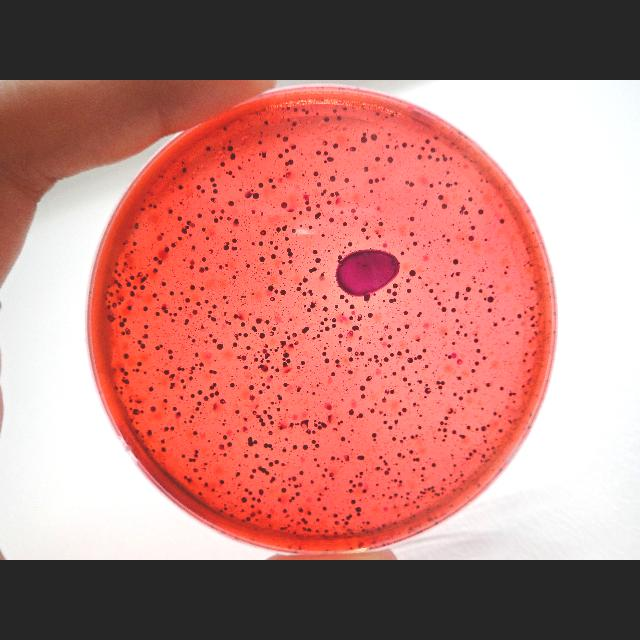colony: (300, 419, 310, 429), (363, 294, 371, 304), (106, 314, 115, 322), (279, 341, 287, 349), (408, 269, 416, 277), (370, 133, 378, 141), (469, 224, 477, 232), (248, 437, 254, 447), (382, 324, 390, 331), (466, 235, 474, 242), (181, 227, 188, 234), (140, 276, 147, 283), (261, 365, 268, 372), (315, 212, 322, 219), (134, 222, 140, 230), (252, 193, 260, 199), (244, 192, 252, 198), (132, 409, 140, 415), (332, 143, 340, 149), (326, 156, 334, 162), (424, 388, 432, 394), (169, 374, 175, 382), (310, 301, 316, 309), (338, 294, 346, 300), (406, 356, 412, 364), (486, 296, 494, 302), (314, 257, 322, 263), (367, 178, 373, 186), (386, 157, 394, 163), (478, 208, 484, 216), (359, 138, 367, 144), (400, 142, 408, 148), (251, 326, 258, 332), (288, 422, 294, 429), (302, 444, 308, 451), (374, 178, 381, 184), (441, 203, 447, 210), (498, 218, 504, 225), (349, 146, 356, 152), (429, 147, 436, 153), (282, 136, 288, 142), (230, 153, 236, 159), (228, 146, 234, 152), (212, 188, 218, 194), (178, 184, 184, 190), (112, 302, 118, 308), (125, 328, 131, 334), (258, 182, 264, 188), (228, 201, 234, 207), (186, 220, 192, 226), (170, 242, 176, 248), (190, 284, 196, 290), (292, 332, 298, 338), (283, 352, 289, 358), (328, 414, 332, 423), (321, 422, 327, 428), (305, 429, 311, 435), (355, 506, 361, 512), (258, 489, 264, 495), (150, 406, 156, 412), (118, 296, 124, 302), (330, 176, 336, 182), (306, 206, 312, 212), (281, 202, 287, 208), (190, 260, 196, 266), (270, 254, 276, 260), (260, 230, 266, 236), (453, 259, 459, 265), (348, 409, 354, 415), (280, 289, 286, 295), (217, 344, 223, 350), (256, 318, 262, 324), (324, 326, 330, 332), (308, 290, 314, 296), (214, 390, 220, 396), (264, 353, 270, 359), (218, 444, 224, 450), (222, 434, 228, 440), (324, 358, 330, 364), (404, 324, 410, 330), (396, 350, 402, 356), (359, 385, 365, 391), (365, 376, 371, 382), (384, 389, 390, 395), (416, 354, 422, 360), (486, 307, 492, 313), (454, 290, 460, 296), (465, 286, 471, 292), (502, 270, 508, 276), (499, 386, 505, 392), (480, 426, 486, 432), (497, 428, 503, 434), (292, 444, 298, 450), (358, 413, 364, 419), (392, 283, 398, 289), (406, 288, 412, 294), (386, 288, 392, 294), (308, 268, 314, 274), (312, 266, 318, 272), (319, 272, 325, 278), (312, 249, 318, 255), (326, 200, 332, 206), (374, 156, 380, 162), (408, 182, 414, 188), (453, 180, 459, 186), (458, 210, 464, 216), (393, 144, 399, 150), (416, 154, 422, 160), (442, 156, 448, 162), (324, 117, 330, 123), (262, 150, 266, 158), (122, 380, 130, 384), (358, 314, 362, 322), (352, 326, 360, 330), (314, 204, 322, 208), (156, 236, 164, 240), (137, 272, 143, 277), (184, 319, 189, 325), (211, 317, 217, 322), (288, 343, 294, 348), (297, 386, 302, 392), (258, 418, 264, 423), (261, 468, 267, 473), (269, 331, 274, 336), (259, 364, 264, 369), (317, 425, 322, 430), (261, 422, 266, 427), (252, 410, 257, 415), (271, 476, 276, 481), (363, 221, 368, 226), (264, 120, 268, 126), (292, 122, 298, 126), (206, 146, 210, 152), (220, 162, 226, 166), (228, 170, 232, 176), (196, 186, 202, 190), (182, 167, 186, 173), (124, 261, 128, 267), (126, 282, 132, 286), (118, 283, 122, 289), (107, 304, 111, 310), (120, 321, 124, 327), (131, 291, 135, 297), (140, 286, 146, 290), (152, 294, 158, 298), (144, 306, 148, 312), (140, 344, 146, 348), (292, 144, 296, 150), (285, 148, 289, 154), (278, 154, 284, 158), (288, 160, 294, 164), (269, 178, 273, 184), (210, 198, 216, 202), (178, 216, 182, 222), (191, 222, 195, 228), (164, 248, 170, 252), (162, 306, 168, 310), (192, 310, 198, 314), (212, 304, 216, 310), (260, 333, 264, 339), (269, 430, 273, 436), (255, 414, 261, 418), (268, 462, 274, 466), (292, 476, 296, 482), (298, 508, 304, 512), (334, 521, 340, 525), (350, 500, 356, 504), (358, 456, 364, 460), (345, 455, 349, 461), (250, 512, 256, 516), (162, 446, 166, 452), (135, 428, 139, 434), (147, 429, 151, 435), (134, 401, 142, 404), (148, 387, 154, 391), (124, 353, 128, 359), (223, 126, 227, 132), (316, 150, 320, 156), (324, 150, 328, 156), (317, 182, 321, 188), (344, 178, 350, 182), (234, 219, 238, 225), (231, 247, 237, 251), (260, 257, 264, 263), (258, 242, 264, 246), (282, 225, 286, 231), (412, 242, 418, 246), (450, 308, 456, 312), (456, 376, 462, 380), (412, 402, 416, 408), (370, 408, 374, 414), (332, 427, 338, 431), (340, 437, 346, 441), (164, 426, 168, 432), (176, 412, 182, 416), (268, 286, 274, 290), (274, 288, 278, 294), (302, 278, 308, 282), (195, 352, 199, 358), (200, 362, 204, 368), (164, 370, 170, 374), (170, 383, 176, 387), (322, 308, 328, 312), (315, 258, 321, 262), (350, 304, 354, 310), (368, 312, 372, 318), (348, 346, 352, 352), (220, 400, 226, 404), (232, 343, 238, 347), (263, 348, 267, 354), (278, 394, 282, 400), (268, 414, 272, 420), (270, 297, 276, 301), (379, 336, 383, 342), (386, 344, 392, 348), (388, 334, 392, 340), (397, 326, 401, 332), (404, 310, 408, 316), (406, 348, 410, 354), (390, 352, 394, 358), (384, 356, 388, 362), (402, 378, 408, 382), (516, 314, 522, 318), (454, 295, 460, 299), (462, 296, 468, 300), (488, 284, 494, 288), (529, 306, 533, 312), (530, 323, 536, 327), (486, 382, 490, 388), (472, 388, 478, 392), (467, 388, 471, 394), (448, 408, 452, 414), (466, 424, 470, 430), (442, 428, 448, 432), (483, 438, 487, 444), (440, 438, 446, 442), (372, 432, 376, 438), (396, 453, 402, 457), (404, 502, 408, 508), (377, 526, 381, 532), (282, 448, 286, 454), (310, 440, 316, 444), (314, 444, 320, 448), (322, 506, 326, 512), (316, 498, 322, 502), (414, 434, 420, 438), (520, 385, 526, 389), (388, 298, 392, 304), (392, 292, 398, 296), (405, 279, 411, 283), (429, 288, 433, 294), (352, 208, 356, 214), (405, 180, 409, 186), (410, 215, 414, 221), (438, 196, 444, 200), (428, 184, 434, 188), (436, 181, 442, 185), (446, 182, 450, 188), (444, 171, 450, 175), (468, 196, 472, 202), (464, 210, 468, 216), (482, 238, 488, 242), (380, 177, 386, 181), (420, 146, 426, 150), (426, 138, 430, 144), (434, 136, 438, 142), (434, 158, 440, 162), (322, 141, 328, 145), (336, 116, 342, 120), (332, 109, 338, 113), (304, 110, 310, 114), (342, 107, 348, 111), (374, 112, 380, 116), (390, 112, 394, 118), (314, 112, 320, 116), (286, 119, 292, 123), (304, 326, 310, 330), (302, 328, 306, 334), (271, 327, 276, 331), (294, 341, 299, 345), (253, 440, 258, 444), (264, 443, 268, 448), (258, 466, 262, 471), (460, 207, 466, 210), (384, 115, 390, 118), (276, 134, 280, 138), (258, 141, 262, 145), (258, 152, 262, 156), (238, 166, 242, 170), (210, 178, 214, 182), (212, 183, 216, 187), (201, 189, 205, 193), (153, 205, 157, 209), (140, 207, 144, 211), (133, 242, 137, 246), (114, 270, 118, 274), (130, 276, 134, 280), (114, 280, 118, 284), (116, 289, 120, 293), (110, 292, 114, 296), (106, 290, 110, 294), (128, 306, 132, 310), (118, 315, 122, 319), (123, 318, 127, 322), (121, 331, 125, 335), (133, 286, 137, 290), (156, 312, 160, 316), (144, 325, 148, 329), (144, 334, 148, 338), (138, 340, 142, 344), (156, 346, 160, 350), (168, 350, 172, 354), (169, 355, 173, 359), (138, 362, 142, 366), (136, 368, 140, 372), (285, 162, 289, 166), (272, 185, 276, 189), (211, 210, 215, 214), (221, 209, 225, 213), (214, 218, 218, 222), (198, 214, 202, 218), (169, 210, 173, 214), (202, 228, 206, 232), (178, 237, 182, 241), (154, 257, 158, 261), (158, 260, 162, 264), (153, 269, 157, 273), (162, 282, 166, 286), (170, 291, 174, 295), (164, 310, 168, 314), (178, 307, 182, 311), (174, 313, 178, 317), (186, 298, 190, 302), (200, 287, 204, 291), (205, 300, 209, 304), (196, 302, 200, 306), (208, 310, 212, 314), (228, 322, 232, 326), (234, 314, 238, 318), (241, 322, 245, 326), (234, 334, 238, 338), (238, 332, 242, 336), (244, 333, 248, 337), (287, 336, 291, 340), (274, 348, 278, 352), (287, 359, 291, 363), (283, 362, 287, 366), (275, 368, 279, 372), (284, 383, 288, 387), (314, 423, 318, 427), (312, 430, 316, 434), (279, 426, 283, 430), (270, 421, 274, 425), (235, 410, 239, 414), (268, 444, 272, 448), (244, 454, 248, 458), (255, 454, 259, 458), (275, 460, 279, 464), (281, 462, 285, 466), (252, 469, 256, 473), (250, 475, 254, 479), (265, 471, 269, 475), (282, 488, 286, 492), (294, 484, 298, 488), (296, 492, 300, 496), (283, 509, 287, 513), (307, 511, 311, 515), (316, 518, 320, 522), (301, 518, 305, 522), (304, 520, 308, 524), (307, 528, 311, 532), (334, 514, 338, 518), (348, 514, 352, 518), (346, 516, 350, 520), (357, 512, 361, 516), (349, 489, 353, 493), (362, 489, 366, 493), (358, 483, 362, 487), (352, 484, 356, 488), (376, 467, 380, 471), (384, 471, 388, 475), (384, 462, 388, 466), (397, 453, 401, 457), (402, 454, 406, 458), (412, 468, 416, 472), (431, 463, 435, 467), (409, 450, 413, 454), (454, 478, 458, 482), (394, 493, 398, 497), (331, 456, 335, 460), (324, 468, 328, 472), (330, 473, 334, 477), (321, 474, 325, 478), (299, 471, 303, 475), (310, 480, 314, 484), (257, 498, 261, 502), (248, 491, 252, 495), (245, 488, 249, 492), (242, 498, 246, 502), (267, 514, 271, 518), (246, 517, 250, 521), (204, 482, 208, 486), (188, 478, 192, 482), (194, 468, 198, 472), (194, 454, 198, 458), (195, 450, 199, 454), (161, 439, 165, 443), (152, 449, 156, 453), (114, 386, 118, 390), (124, 372, 128, 376), (121, 368, 125, 372), (314, 172, 318, 176), (335, 191, 339, 195), (330, 193, 334, 197), (305, 201, 309, 205), (233, 239, 237, 243), (224, 246, 228, 250), (209, 250, 213, 254), (192, 245, 196, 249), (202, 257, 206, 261), (190, 265, 194, 269), (205, 267, 209, 271), (200, 268, 204, 272), (219, 265, 223, 269), (232, 275, 236, 279), (246, 264, 250, 268), (274, 246, 278, 250), (276, 227, 280, 231), (292, 229, 296, 233), (309, 226, 313, 230), (330, 218, 334, 222), (343, 222, 347, 226), (362, 228, 366, 232), (374, 231, 378, 235), (379, 222, 383, 226), (446, 239, 450, 243), (455, 272, 459, 276), (429, 289, 433, 293), (437, 301, 441, 305), (442, 308, 446, 312), (456, 331, 460, 335), (474, 339, 478, 343), (476, 349, 480, 353), (482, 356, 486, 360), (475, 362, 479, 366), (471, 369, 475, 373), (441, 381, 445, 385), (436, 381, 440, 385), (438, 386, 442, 390), (418, 380, 422, 384), (402, 408, 406, 412), (398, 412, 402, 416), (394, 420, 398, 424), (388, 425, 392, 429), (383, 420, 387, 424), (382, 398, 386, 402), (361, 394, 365, 398), (220, 480, 224, 484), (170, 426, 174, 430), (193, 431, 197, 435), (191, 415, 195, 419), (173, 407, 177, 411), (163, 399, 167, 403), (191, 394, 195, 398), (198, 390, 202, 394), (204, 396, 208, 400), (197, 401, 201, 405), (195, 407, 199, 411), (267, 271, 271, 275), (293, 108, 297, 112), (192, 339, 196, 343), (213, 339, 217, 343), (209, 334, 213, 338), (200, 325, 204, 329), (191, 366, 195, 370), (156, 368, 160, 372), (181, 379, 185, 383), (189, 376, 193, 380), (265, 320, 269, 324), (316, 334, 320, 338), (320, 321, 324, 325), (324, 317, 328, 321), (332, 318, 336, 322), (332, 324, 336, 328), (307, 308, 311, 312), (322, 295, 326, 299), (302, 292, 306, 296), (297, 287, 301, 291), (298, 282, 302, 286), (287, 248, 291, 252), (288, 252, 292, 256), (288, 260, 292, 264), (334, 305, 338, 309), (349, 316, 353, 320), (358, 336, 362, 340), (360, 352, 364, 356), (349, 357, 353, 361), (335, 360, 339, 364), (348, 370, 352, 374), (331, 372, 335, 376), (301, 361, 305, 365), (254, 358, 258, 362), (244, 366, 248, 370), (230, 383, 234, 387), (213, 383, 217, 387), (210, 386, 214, 390), (210, 393, 214, 397), (223, 296, 227, 300), (246, 346, 250, 350), (242, 356, 246, 360), (264, 344, 268, 348), (259, 390, 263, 394), (250, 386, 254, 390), (276, 408, 280, 412), (263, 410, 267, 414), (228, 442, 232, 446), (236, 472, 240, 476), (250, 396, 254, 400), (348, 242, 352, 246), (338, 334, 342, 338), (322, 352, 326, 356), (416, 314, 420, 318), (416, 338, 420, 342), (368, 358, 372, 362), (374, 355, 378, 359), (375, 359, 379, 363), (392, 372, 396, 376), (390, 390, 394, 394), (400, 366, 404, 370), (423, 348, 427, 352), (425, 364, 429, 368), (515, 331, 519, 335), (501, 317, 505, 321), (479, 289, 483, 293), (530, 286, 534, 290), (536, 302, 540, 306), (538, 312, 542, 316), (524, 352, 528, 356), (522, 359, 526, 363), (459, 396, 463, 400), (453, 392, 457, 396), (493, 412, 497, 416), (444, 416, 448, 420), (440, 421, 444, 425), (452, 430, 456, 434), (475, 427, 479, 431), (473, 449, 477, 453), (468, 452, 472, 456), (486, 448, 490, 452), (461, 435, 465, 439), (444, 434, 448, 438), (418, 425, 422, 429), (410, 434, 414, 438), (392, 437, 396, 441), (366, 521, 370, 525), (382, 524, 386, 528), (285, 438, 289, 442), (318, 492, 322, 496), (512, 392, 516, 396), (528, 378, 532, 382), (393, 298, 397, 302), (418, 276, 422, 280), (424, 283, 428, 287), (382, 299, 386, 303), (338, 256, 342, 260), (364, 168, 368, 172), (424, 200, 428, 204), (410, 232, 414, 236), (467, 189, 471, 193), (478, 172, 482, 176), (479, 179, 483, 183), (386, 145, 390, 149), (345, 148, 349, 152), (362, 132, 366, 136), (387, 133, 391, 137), (410, 144, 414, 148), (428, 156, 432, 160), (302, 108, 306, 112), (243, 418, 248, 421), (222, 146, 225, 150), (148, 205, 152, 208), (160, 232, 163, 236), (122, 242, 126, 245), (130, 250, 134, 253), (115, 262, 118, 266), (125, 278, 128, 282), (219, 217, 223, 220), (180, 291, 183, 295), (270, 366, 274, 369), (222, 422, 225, 426), (282, 481, 286, 484), (291, 496, 295, 499), (297, 521, 301, 524), (349, 481, 353, 484), (398, 481, 402, 484), (421, 466, 425, 469), (421, 474, 424, 478), (416, 458, 419, 462), (412, 501, 416, 504), (250, 504, 253, 508), (258, 511, 262, 514), (198, 476, 202, 479), (192, 458, 195, 462), (182, 454, 185, 458), (140, 411, 144, 414), (321, 192, 324, 196), (207, 236, 210, 240), (182, 258, 185, 262), (354, 217, 358, 220), (378, 235, 382, 238), (451, 274, 454, 278), (180, 396, 183, 400), (182, 385, 185, 389), (312, 336, 316, 339), (205, 462, 208, 466), (338, 341, 342, 344), (533, 351, 537, 354), (486, 424, 489, 428), (402, 436, 406, 439), (324, 486, 328, 489), (512, 401, 516, 404), (310, 356, 314, 359), (172, 177, 175, 180), (257, 366, 260, 369), (297, 423, 300, 426), (270, 480, 273, 483), (441, 486, 444, 489), (225, 506, 228, 509), (227, 242, 230, 245), (248, 158, 250, 162), (228, 140, 232, 142), (118, 273, 120, 277), (108, 300, 110, 304), (118, 302, 122, 304), (157, 298, 159, 302), (160, 344, 162, 348), (240, 188, 242, 192), (185, 226, 189, 228), (188, 234, 192, 236), (170, 312, 172, 316), (208, 314, 210, 318), (238, 316, 242, 318), (284, 332, 288, 334), (282, 358, 286, 360), (270, 376, 274, 378), (312, 392, 316, 394), (288, 484, 292, 486), (288, 500, 292, 502), (278, 498, 280, 502), (290, 519, 294, 521), (280, 527, 284, 529), (292, 532, 296, 534), (302, 528, 306, 530), (324, 530, 328, 532), (334, 532, 338, 534), (344, 522, 348, 524), (356, 474, 358, 478), (359, 472, 363, 474), (379, 456, 383, 458), (394, 478, 396, 482), (413, 458, 415, 462), (452, 489, 456, 491), (442, 478, 446, 480), (438, 492, 440, 496), (435, 492, 437, 496), (422, 492, 426, 494), (417, 495, 419, 499), (389, 496, 393, 498), (382, 494, 386, 496), (316, 464, 320, 466), (314, 458, 316, 462), (299, 483, 301, 487), (212, 488, 214, 492), (190, 458, 192, 462), (142, 434, 144, 438), (131, 418, 133, 422), (129, 400, 133, 402), (120, 391, 122, 395), (133, 368, 135, 372), (324, 160, 326, 164), (324, 189, 326, 193), (300, 211, 302, 215), (252, 210, 254, 214), (228, 217, 230, 221), (270, 241, 272, 245), (322, 233, 324, 237), (366, 236, 368, 240), (400, 252, 404, 254), (436, 282, 438, 286), (424, 284, 428, 286), (433, 298, 437, 300), (464, 334, 468, 336), (474, 334, 478, 336), (380, 411, 382, 415), (238, 484, 242, 486), (281, 108, 285, 110), (286, 108, 290, 110), (190, 370, 192, 374), (182, 368, 184, 372), (178, 367, 180, 371), (210, 370, 212, 374), (214, 370, 216, 374), (249, 312, 251, 316), (290, 318, 292, 322), (304, 304, 306, 308), (280, 270, 282, 274), (286, 237, 288, 241), (282, 262, 286, 264), (356, 352, 358, 356), (336, 364, 338, 368), (316, 384, 320, 386), (266, 360, 270, 362), (260, 360, 264, 362), (238, 356, 240, 360), (262, 384, 266, 386), (266, 386, 270, 388), (323, 348, 327, 350), (418, 312, 422, 314), (365, 364, 367, 368), (408, 382, 410, 386), (410, 389, 412, 393), (444, 354, 448, 356), (448, 355, 450, 359), (451, 342, 455, 344), (445, 332, 447, 336), (493, 324, 497, 326), (484, 297, 486, 301), (472, 277, 476, 279), (534, 282, 538, 284), (524, 310, 526, 314), (532, 316, 536, 318), (528, 340, 532, 342), (534, 334, 538, 336), (526, 370, 530, 372), (531, 354, 535, 356), (499, 414, 501, 418), (444, 423, 448, 425), (438, 428, 440, 432), (482, 454, 484, 458), (492, 445, 494, 449), (460, 434, 462, 438), (420, 414, 422, 418), (372, 439, 376, 441), (402, 454, 404, 458), (372, 494, 374, 498), (360, 526, 364, 528), (270, 448, 274, 450), (312, 448, 316, 450), (510, 392, 512, 396), (340, 212, 344, 214), (370, 190, 372, 194), (423, 204, 427, 206), (363, 196, 367, 198), (441, 154, 445, 156), (450, 157, 452, 161), (290, 128, 294, 130), (301, 152, 303, 156), (182, 160, 184, 163), (250, 190, 253, 192), (226, 321, 228, 324), (421, 479, 424, 481), (451, 454, 454, 456), (461, 474, 464, 476), (432, 486, 434, 489), (420, 491, 422, 494), (416, 506, 419, 508), (406, 492, 409, 494), (406, 496, 408, 499), (336, 458, 339, 460), (252, 498, 255, 500), (230, 514, 233, 516), (220, 510, 223, 512), (185, 476, 188, 478), (120, 386, 122, 389), (294, 217, 296, 220), (225, 264, 228, 266), (252, 242, 254, 245), (300, 225, 302, 228), (442, 235, 444, 238), (340, 421, 342, 424), (351, 429, 354, 431), (228, 491, 230, 494), (195, 364, 198, 366), (170, 386, 172, 389), (298, 366, 300, 369), (240, 296, 243, 298), (202, 467, 205, 469), (423, 331, 425, 334), (415, 371, 417, 374), (506, 342, 509, 344), (539, 331, 541, 334), (481, 408, 484, 410), (466, 456, 468, 459), (344, 247, 346, 250), (451, 184, 454, 186), (486, 180, 488, 183), (481, 191, 484, 193), (261, 132, 263, 134), (242, 161, 244, 163), (226, 172, 228, 174), (232, 176, 234, 178), (180, 202, 182, 204), (132, 232, 134, 234), (130, 267, 132, 269), (108, 286, 110, 288), (105, 298, 107, 300), (138, 349, 140, 351), (144, 372, 146, 374), (287, 169, 289, 171), (283, 175, 285, 177), (146, 274, 148, 276), (162, 278, 164, 280), (172, 320, 174, 322), (185, 306, 187, 308), (200, 307, 202, 309), (216, 323, 218, 325), (236, 338, 238, 340), (277, 347, 279, 349), (284, 350, 286, 352), (261, 377, 263, 379), (306, 409, 308, 411), (314, 420, 316, 422), (318, 422, 320, 424), (295, 423, 297, 425), (236, 414, 238, 416), (224, 420, 226, 422), (228, 424, 230, 426), (237, 430, 239, 432), (266, 458, 268, 460), (289, 478, 291, 480), (287, 514, 289, 516), (288, 525, 290, 527), (285, 527, 287, 529), (288, 530, 290, 532), (316, 530, 318, 532), (322, 534, 324, 536), (342, 519, 344, 521), (359, 476, 361, 478), (381, 468, 383, 470), (388, 468, 390, 470), (383, 460, 385, 462), (396, 463, 398, 465), (398, 472, 400, 474), (454, 464, 456, 466), (460, 470, 462, 472), (450, 474, 452, 476), (432, 490, 434, 492), (441, 492, 443, 494), (424, 488, 426, 490), (401, 496, 403, 498), (388, 487, 390, 489), (376, 484, 378, 486), (341, 460, 343, 462), (332, 478, 334, 480), (267, 488, 269, 490), (255, 519, 257, 521), (242, 520, 244, 522), (242, 509, 244, 511), (224, 504, 226, 506), (200, 492, 202, 494), (219, 495, 221, 497), (186, 464, 188, 466), (136, 422, 138, 424), (130, 408, 132, 410), (136, 395, 138, 397), (123, 377, 125, 379), (129, 396, 131, 398), (141, 267, 143, 269), (148, 264, 150, 266), (318, 177, 320, 179), (302, 174, 304, 176), (305, 171, 307, 173), (335, 171, 337, 173), (353, 185, 355, 187), (261, 212, 263, 214), (261, 214, 263, 216), (230, 231, 232, 233), (236, 271, 238, 273), (319, 224, 321, 226), (394, 244, 396, 246), (407, 248, 409, 250), (423, 245, 425, 247), (429, 242, 431, 244), (428, 246, 430, 248), (452, 273, 454, 275), (444, 274, 446, 276), (465, 311, 467, 313), (467, 314, 469, 316), (470, 322, 472, 324), (460, 326, 462, 328), (456, 320, 458, 322), (426, 384, 428, 386), (440, 392, 442, 394), (424, 396, 426, 398), (417, 404, 419, 406), (400, 400, 402, 402), (384, 414, 386, 416), (368, 408, 370, 410), (375, 403, 377, 405), (341, 399, 343, 401), (338, 422, 340, 424), (348, 441, 350, 443), (351, 448, 353, 450), (274, 473, 276, 475), (179, 434, 181, 436), (184, 421, 186, 423), (190, 420, 192, 422), (165, 407, 167, 409), (200, 412, 202, 414), (133, 321, 135, 323), (224, 312, 226, 314), (224, 314, 226, 316), (188, 336, 190, 338), (205, 341, 207, 343), (199, 368, 201, 370), (282, 314, 284, 316), (306, 324, 308, 326), (299, 334, 301, 336), (306, 334, 308, 336), (307, 338, 309, 340), (316, 329, 318, 331), (320, 330, 322, 332), (302, 304, 304, 306), (308, 316, 310, 318), (262, 280, 264, 282), (266, 283, 268, 285), (342, 313, 344, 315), (369, 342, 371, 344), (357, 358, 359, 360), (301, 366, 303, 368), (306, 391, 308, 393), (319, 382, 321, 384), (310, 384, 312, 386), (262, 358, 264, 360), (250, 362, 252, 364), (254, 364, 256, 366), (178, 372, 180, 374), (226, 296, 228, 298), (226, 302, 228, 304), (228, 300, 230, 302), (220, 300, 222, 302), (217, 307, 219, 309), (236, 308, 238, 310), (244, 302, 246, 304), (244, 296, 246, 298), (244, 298, 246, 300), (252, 293, 254, 295), (260, 304, 262, 306), (265, 305, 267, 307), (260, 308, 262, 310), (260, 312, 262, 314), (192, 334, 194, 336), (206, 344, 208, 346), (240, 354, 242, 356), (234, 351, 236, 353), (253, 354, 255, 356), (258, 354, 260, 356), (260, 355, 262, 357), (262, 354, 264, 356), (257, 351, 259, 353), (270, 349, 272, 351), (260, 344, 262, 346), (252, 384, 254, 386), (251, 377, 253, 379), (256, 384, 258, 386), (272, 402, 274, 404), (278, 401, 280, 403), (286, 409, 288, 411), (268, 407, 270, 409), (219, 433, 221, 435), (208, 440, 210, 442), (213, 453, 215, 455), (224, 454, 226, 456), (239, 464, 241, 466), (232, 478, 234, 480), (235, 505, 237, 507), (269, 524, 271, 526), (280, 300, 282, 302), (314, 308, 316, 310), (319, 339, 321, 341), (380, 364, 382, 366), (384, 376, 386, 378), (414, 358, 416, 360), (429, 363, 431, 365), (432, 372, 434, 374), (410, 341, 412, 343), (492, 292, 494, 294), (443, 290, 445, 292), (448, 299, 450, 301), (462, 294, 464, 296), (474, 281, 476, 283), (481, 283, 483, 285), (506, 266, 508, 268), (524, 265, 526, 267), (527, 262, 529, 264), (530, 264, 532, 266), (518, 294, 520, 296), (532, 306, 534, 308), (536, 321, 538, 323), (534, 331, 536, 333), (454, 412, 456, 414), (462, 408, 464, 410), (483, 435, 485, 437), (469, 458, 471, 460), (400, 440, 402, 442), (362, 522, 364, 524), (356, 416, 358, 418), (374, 294, 376, 296), (342, 252, 344, 254), (328, 250, 330, 252), (295, 269, 297, 271), (291, 286, 293, 288), (407, 218, 409, 220), (415, 203, 417, 205), (416, 198, 418, 200), (452, 224, 454, 226), (458, 230, 460, 232), (356, 202, 358, 204), (343, 200, 345, 202), (348, 201, 350, 203), (384, 165, 386, 167), (462, 238, 464, 240), (192, 178, 194, 180), (142, 351, 144, 352), (228, 321, 230, 322), (262, 331, 264, 332), (294, 341, 296, 342), (280, 352, 282, 353), (276, 377, 278, 378), (238, 417, 240, 418), (246, 442, 247, 444), (246, 451, 248, 452), (367, 469, 368, 471), (407, 449, 408, 451), (368, 236, 369, 238), (392, 242, 393, 244), (407, 244, 408, 246), (408, 250, 409, 252), (344, 462, 346, 463), (262, 481, 264, 482), (183, 429, 184, 431), (184, 418, 186, 419), (164, 412, 166, 413), (213, 310, 214, 312), (342, 312, 343, 314), (364, 321, 366, 322), (361, 324, 362, 326), (354, 351, 356, 352), (342, 364, 343, 366), (344, 371, 346, 372), (334, 371, 336, 372), (296, 372, 298, 373), (306, 371, 308, 372), (296, 361, 298, 362), (282, 377, 284, 378), (286, 377, 288, 378), (280, 382, 282, 383), (278, 361, 280, 362), (252, 362, 254, 363), (236, 368, 238, 369), (226, 402, 227, 404), (176, 394, 177, 396), (216, 298, 217, 300), (253, 312, 254, 314), (234, 322, 236, 323), (208, 331, 210, 332), (198, 328, 200, 329), (190, 331, 192, 332), (190, 347, 192, 348), (186, 348, 188, 349), (176, 351, 178, 352), (174, 351, 176, 352), (192, 358, 194, 359), (194, 361, 196, 362), (256, 332, 258, 333), (232, 378, 234, 379), (254, 382, 256, 383), (272, 392, 274, 393), (275, 402, 277, 403), (280, 418, 282, 419), (228, 451, 230, 452), (212, 451, 214, 452), (210, 461, 212, 462), (243, 464, 244, 466), (402, 336, 403, 338), (402, 432, 404, 433), (321, 401, 322, 402), (382, 236, 383, 237), (447, 243, 448, 244), (358, 432, 359, 433), (193, 322, 194, 323), (358, 342, 359, 343), (332, 377, 333, 378), (321, 382, 322, 383), (243, 372, 244, 373), (226, 387, 227, 388), (196, 328, 197, 329), (196, 337, 197, 338), (186, 361, 187, 362), (243, 342, 244, 343), (226, 432, 227, 433), (233, 492, 234, 493), (166, 364, 168, 364), (162, 359, 162, 361), (162, 280, 162, 282), (154, 280, 154, 282), (174, 320, 176, 320), (224, 320, 226, 320), (250, 334, 252, 334), (290, 334, 290, 336), (278, 378, 278, 378), (288, 384, 290, 384), (296, 387, 296, 388), (294, 384, 294, 386), (292, 394, 292, 394), (316, 414, 316, 416), (314, 414, 316, 414), (321, 412, 323, 412), (318, 418, 320, 418), (314, 422, 314, 423), (322, 422, 322, 422), (226, 424, 227, 424), (243, 452, 244, 452), (286, 516, 286, 518), (386, 453, 386, 455), (430, 458, 430, 458), (427, 462, 428, 462), (452, 458, 454, 458), (450, 482, 450, 483), (421, 496, 423, 496), (392, 478, 392, 482), (366, 468, 366, 468), (324, 462, 324, 463), (134, 341, 134, 343), (150, 264, 150, 266), (134, 250, 136, 250), (386, 222, 386, 224), (402, 240, 402, 242), (401, 256, 402, 256), (436, 240, 438, 240), (434, 240, 436, 240), (441, 258, 443, 258), (451, 262, 452, 262), (460, 272, 460, 272), (422, 288, 422, 288), (424, 387, 424, 388), (435, 388, 437, 388), (384, 396, 384, 398), (332, 402, 332, 402), (328, 398, 328, 398), (340, 444, 340, 446), (336, 454, 336, 454), (352, 457, 352, 458), (340, 467, 340, 468), (188, 407, 188, 408), (193, 406, 194, 406), (192, 410, 194, 410), (170, 407, 170, 408), (186, 330, 187, 330), (188, 328, 188, 330), (204, 340, 206, 340), (180, 366, 182, 366), (176, 370, 177, 370), (288, 321, 288, 323), (286, 324, 288, 324), (288, 328, 290, 328), (302, 328, 302, 329), (300, 327, 300, 329), (306, 322, 306, 322), (323, 326, 325, 326), (331, 320, 332, 320), (330, 318, 330, 318), (328, 314, 328, 314), (320, 316, 320, 316), (324, 306, 324, 306), (296, 302, 296, 302), (302, 308, 302, 308), (306, 308, 306, 310), (304, 312, 304, 312), (316, 310, 316, 312), (308, 292, 308, 294), (306, 288, 308, 288), (290, 289, 290, 291), (294, 290, 294, 292), (284, 278, 286, 278), (292, 280, 292, 280), (284, 284, 284, 284), (284, 286, 286, 286), (280, 286, 280, 286), (282, 286, 282, 286), (272, 284, 272, 286), (336, 310, 336, 310), (336, 308, 336, 310), (346, 308, 346, 308), (364, 316, 364, 318), (364, 320, 366, 320), (376, 322, 376, 322), (372, 326, 372, 326), (372, 326, 373, 326), (368, 342, 368, 343), (371, 340, 372, 340), (368, 338, 368, 339), (361, 344, 362, 344), (360, 348, 360, 348), (354, 348, 356, 348), (358, 356, 358, 356), (358, 354, 359, 354), (352, 354, 352, 356), (341, 366, 342, 366), (346, 367, 346, 368), (342, 372, 342, 372), (344, 372, 344, 373), (346, 372, 346, 373), (351, 370, 352, 370), (328, 376, 329, 376), (327, 368, 328, 368), (316, 366, 318, 366), (318, 370, 318, 370), (312, 382, 312, 384), (312, 386, 312, 386), (316, 387, 316, 388), (322, 388, 322, 388), (320, 394, 320, 396), (322, 394, 323, 394), (326, 391, 326, 392), (326, 388, 326, 389), (322, 388, 323, 388), (324, 389, 324, 391), (306, 376, 308, 376), (298, 372, 300, 372), (302, 370, 302, 370), (304, 372, 304, 372), (310, 372, 310, 372), (310, 370, 312, 370), (300, 364, 300, 366), (292, 364, 292, 364), (278, 367, 278, 368), (284, 376, 284, 376), (284, 380, 286, 380), (270, 358, 270, 358), (276, 360, 276, 360), (253, 362, 254, 362), (250, 368, 250, 369), (248, 368, 250, 368), (232, 377, 232, 378), (234, 380, 236, 380), (236, 386, 237, 386), (218, 397, 218, 398), (165, 396, 167, 396), (192, 387, 192, 388), (200, 384, 200, 386), (194, 378, 196, 378), (196, 380, 198, 380), (230, 296, 230, 298), (220, 300, 222, 300), (234, 306, 236, 306), (232, 306, 234, 306), (236, 310, 238, 310), (240, 312, 240, 312), (234, 312, 236, 312), (242, 304, 244, 304), (248, 304, 248, 304), (242, 306, 242, 306), (240, 300, 242, 300), (252, 296, 252, 296), (250, 298, 252, 298), (258, 302, 258, 302), (260, 300, 260, 302), (262, 306, 262, 308), (262, 310, 262, 310), (254, 312, 256, 312), (248, 320, 248, 320), (248, 318, 250, 318), (246, 322, 247, 322), (250, 320, 252, 320), (232, 332, 234, 332), (208, 332, 208, 332), (218, 332, 218, 333), (202, 324, 204, 324), (196, 330, 197, 330), (190, 334, 190, 334), (200, 340, 200, 340), (200, 338, 200, 338), (191, 344, 193, 344), (206, 348, 207, 348), (178, 344, 180, 344), (180, 358, 180, 359), (180, 362, 180, 362), (184, 360, 186, 360), (188, 362, 188, 362), (236, 356, 238, 356), (240, 361, 240, 362), (254, 354, 256, 354), (270, 352, 270, 353), (260, 348, 260, 349), (256, 344, 256, 344), (242, 348, 242, 348), (240, 346, 242, 346), (238, 346, 238, 346), (250, 344, 252, 344), (252, 341, 252, 342), (260, 342, 260, 342), (262, 341, 262, 342), (254, 336, 256, 336), (258, 394, 260, 394), (244, 382, 246, 382), (232, 380, 232, 380), (230, 382, 230, 382), (272, 384, 272, 384), (274, 394, 276, 394), (276, 396, 276, 396), (274, 420, 276, 420), (272, 427, 272, 428), (260, 430, 262, 430), (260, 431, 260, 432), (250, 427, 250, 428), (252, 426, 254, 426), (258, 422, 258, 423), (256, 430, 256, 430), (258, 428, 258, 429), (232, 438, 232, 439), (218, 432, 218, 432), (220, 454, 220, 456), (220, 454, 222, 454), (218, 461, 218, 462), (238, 487, 238, 489), (286, 308, 286, 308), (316, 306, 318, 306), (328, 347, 328, 348), (334, 346, 336, 346), (333, 352, 335, 352), (347, 338, 348, 338), (336, 334, 336, 336), (406, 332, 406, 333), (456, 406, 458, 406), (418, 410, 418, 412), (418, 414, 418, 414), (279, 438, 281, 438), (276, 232, 276, 234), (464, 204, 464, 206)
